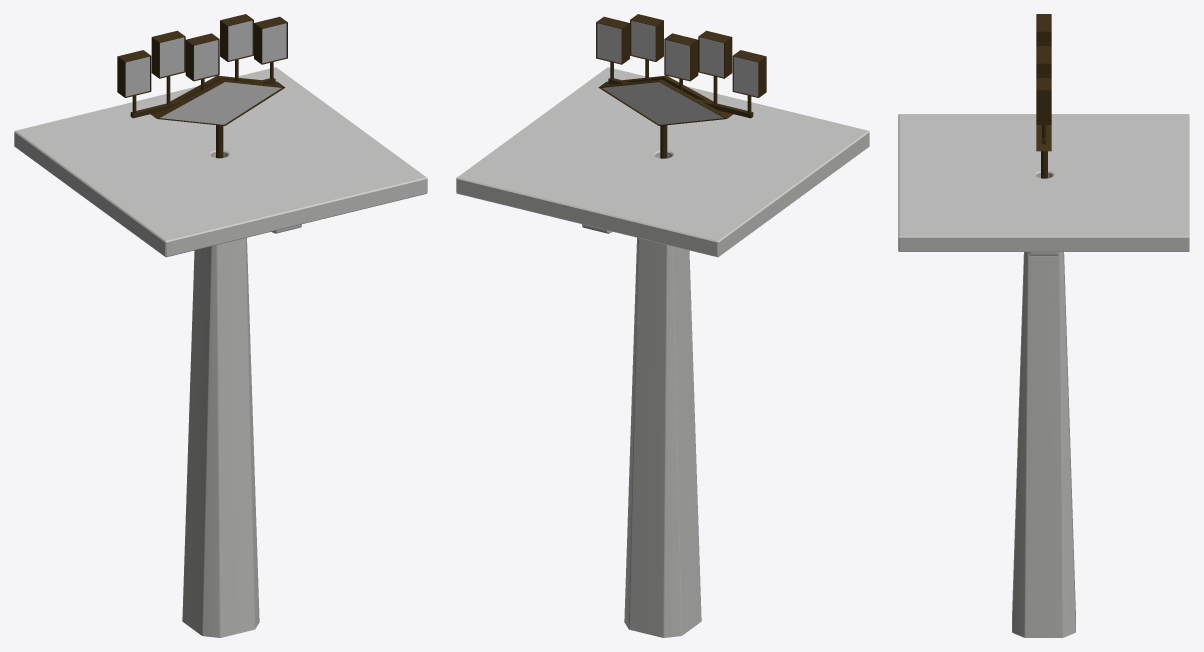
File: PlatformHazard1Arm.fbx
3 views of the same model, side by side, from view 1: azimuth 30°, elevation 25°; view 2: azimuth 150°, elevation 25°; view 3: azimuth 270°, elevation 25° (orthographic). The views are drawn at different scales.
Parts seen in each view (by area): view 1: PlatformHazard1Arm_Floor, SignLetters, SignDiamond; view 2: PlatformHazard1Arm_Floor, SignLetters, SignDiamond; view 3: PlatformHazard1Arm_Floor, SignLetters, SignDiamond.
Part boxes in pixels (x1,y1,x2,y2): PlatformHazard1Arm_Floor: (14, 67, 427, 637); SignLetters: (117, 14, 287, 118); SignDiamond: (150, 75, 285, 158); PlatformHazard1Arm_Floor: (456, 67, 869, 637); SignLetters: (596, 14, 766, 118); SignDiamond: (598, 75, 733, 158); PlatformHazard1Arm_Floor: (898, 114, 1189, 637); SignLetters: (1036, 14, 1051, 144); SignDiamond: (1036, 125, 1051, 178).
Bounding box in the file's own units: 500 × 1086 × 500.
